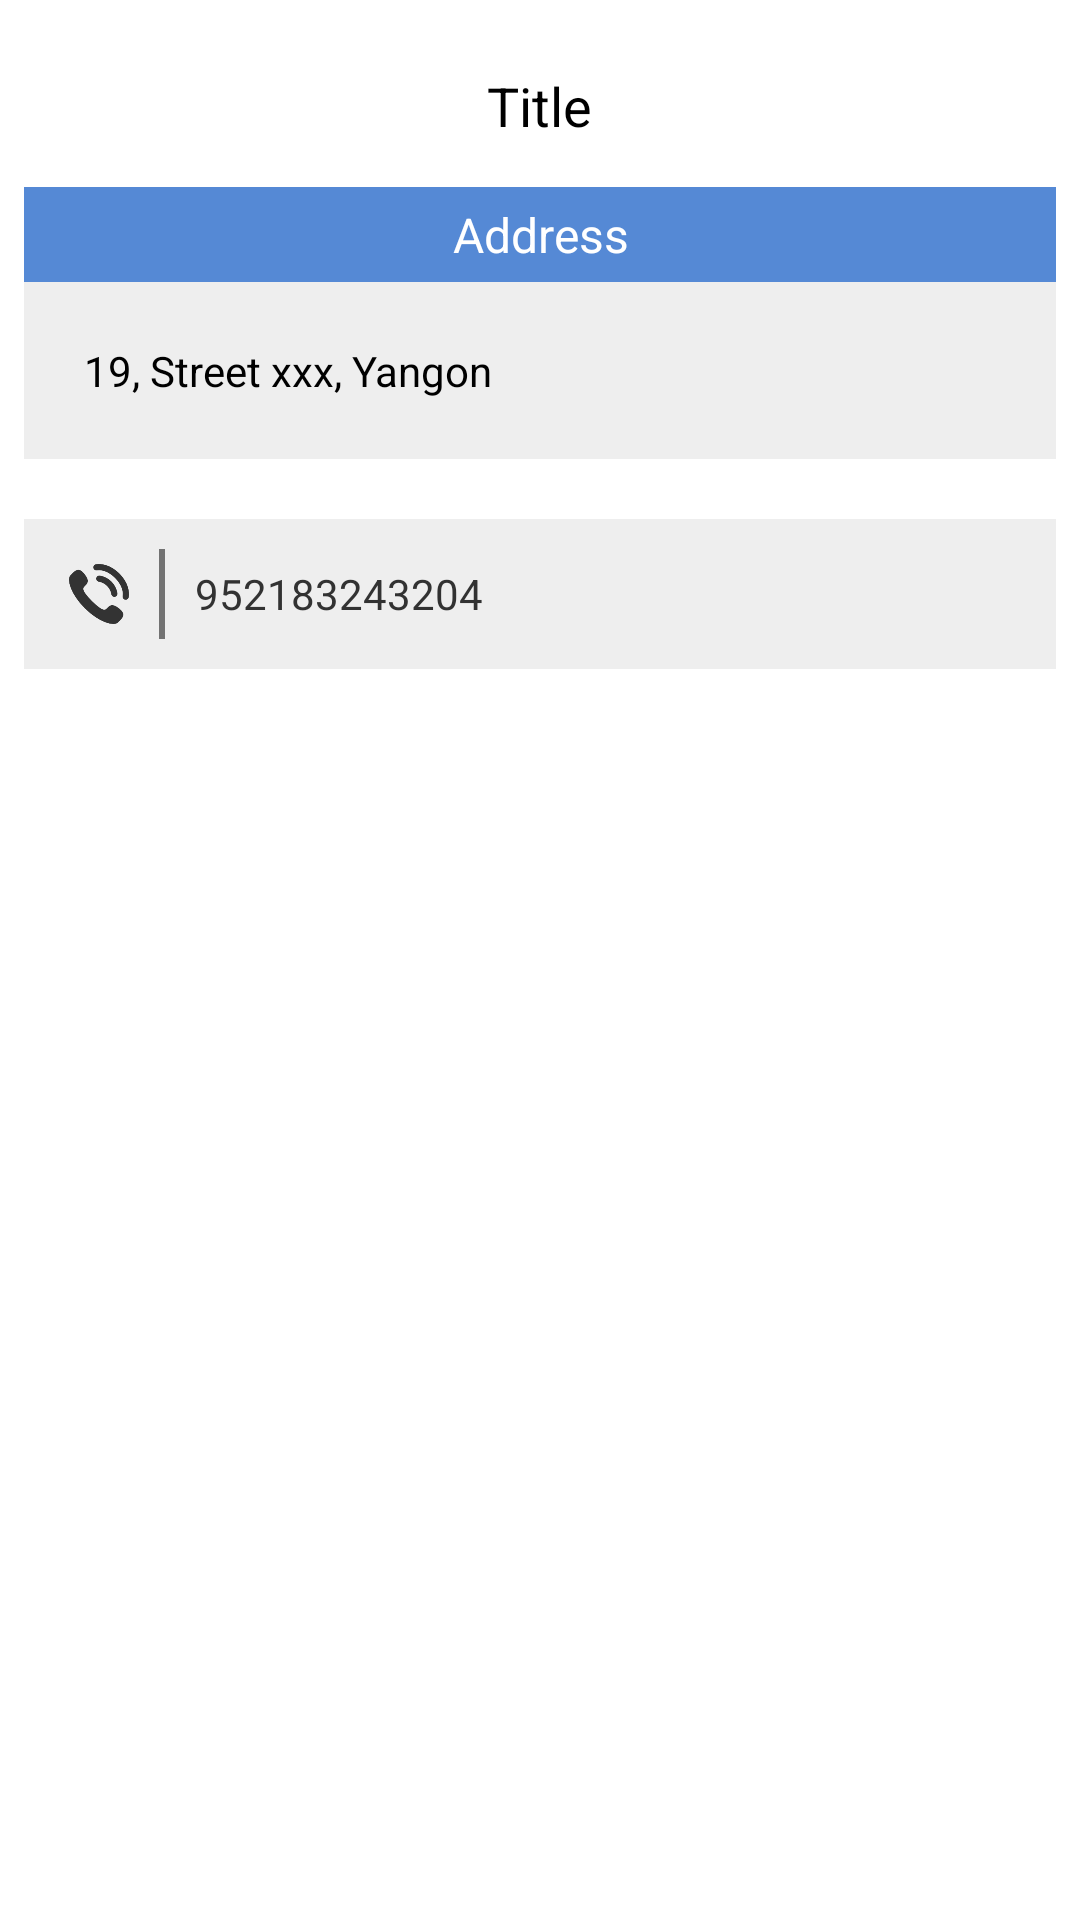

Named icons in this screenshot (1080px x 1920px) and their centers, [x,y]:
phone: [99,594]
